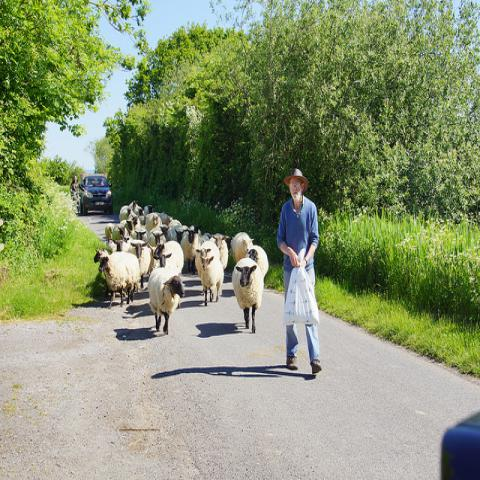car: (77, 173, 114, 215)
